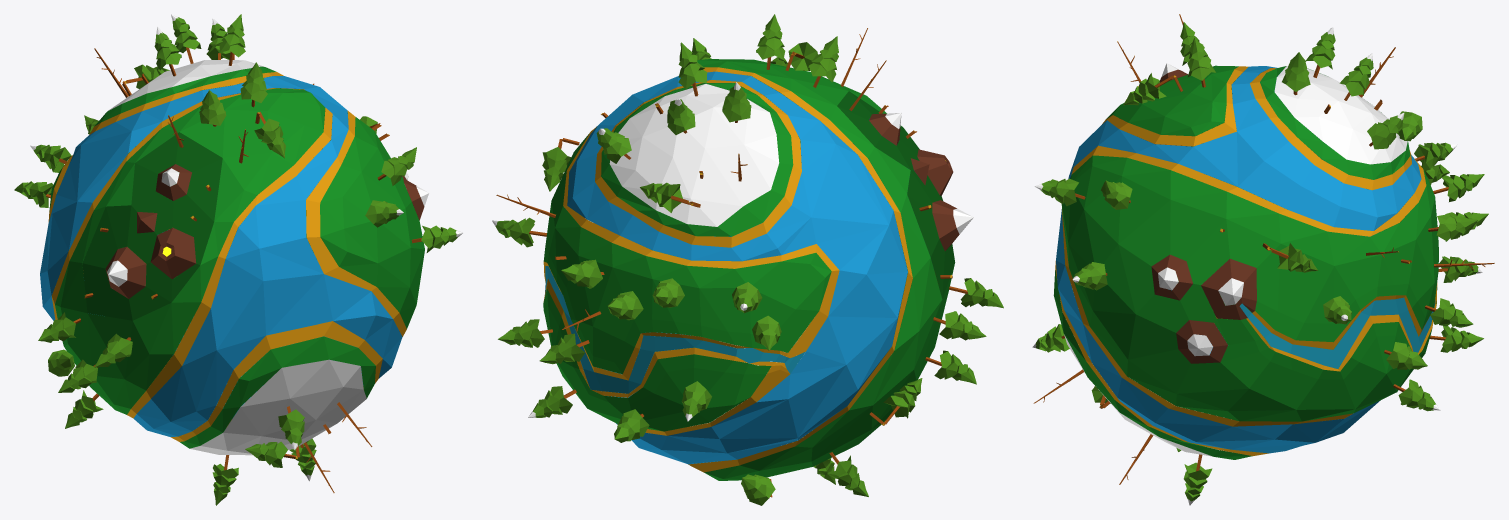
File: earth.gltf
The picture shows the model from 3 angles, left to right: view 1: azimuth 30°, elevation 25°; view 2: azimuth 150°, elevation 25°; view 3: azimuth 270°, elevation 25°; orthographic projection. The views are drawn at different scales.
Parts seen in each view (by area): view 1: StageOne_01 - Default_0, StageOne_Material #37_0, StageOne_Material #503_0, StageOne_Material #38_0, StageOne_Material #117_0, StageOne_Material #152_0, StageOne_Material #39_0, StageOne_Material #502_0; view 2: StageOne_01 - Default_0, StageOne_Material #37_0, StageOne_Material #503_0, StageOne_Material #152_0, StageOne_Material #38_0, StageOne_Material #117_0, StageOne_Material #318_0, StageOne_Material #39_0, StageOne_Material #502_0; view 3: StageOne_01 - Default_0, StageOne_Material #37_0, StageOne_Material #503_0, StageOne_Material #38_0, StageOne_Material #152_0, StageOne_Material #39_0, StageOne_Material #318_0, StageOne_Material #502_0.
Part boxes in pixels (x1,y1,x2,y2): StageOne_01 - Default_0: (49,66,424,448); StageOne_Material #37_0: (40,76,402,437); StageOne_Material #503_0: (14,14,457,505); StageOne_Material #38_0: (48,72,406,441); StageOne_Material #117_0: (82,132,222,320); StageOne_Material #152_0: (30,14,463,481); StageOne_Material #39_0: (105,164,424,298); StageOne_Material #502_0: (46,47,421,492); StageOne_01 - Default_0: (543,59,954,480); StageOne_Material #37_0: (567,71,907,464); StageOne_Material #503_0: (495,14,1003,505); StageOne_Material #152_0: (492,57,973,423); StageOne_Material #38_0: (543,67,932,472); StageOne_Material #117_0: (837,91,955,299); StageOne_Material #318_0: (545,266,805,393); StageOne_Material #39_0: (583,113,959,250); StageOne_Material #502_0: (496,28,967,498); StageOne_01 - Default_0: (1053,65,1438,459); StageOne_Material #37_0: (1056,66,1421,453); StageOne_Material #503_0: (1035,22,1488,501); StageOne_Material #38_0: (1055,66,1437,455); StageOne_Material #152_0: (1032,27,1482,505); StageOne_Material #39_0: (1123,69,1256,363); StageOne_Material #318_0: (1239,208,1435,368); StageOne_Material #502_0: (1033,14,1494,484).
Bounding box in the file's own units: 1.53 × 1.61 × 1.51.
